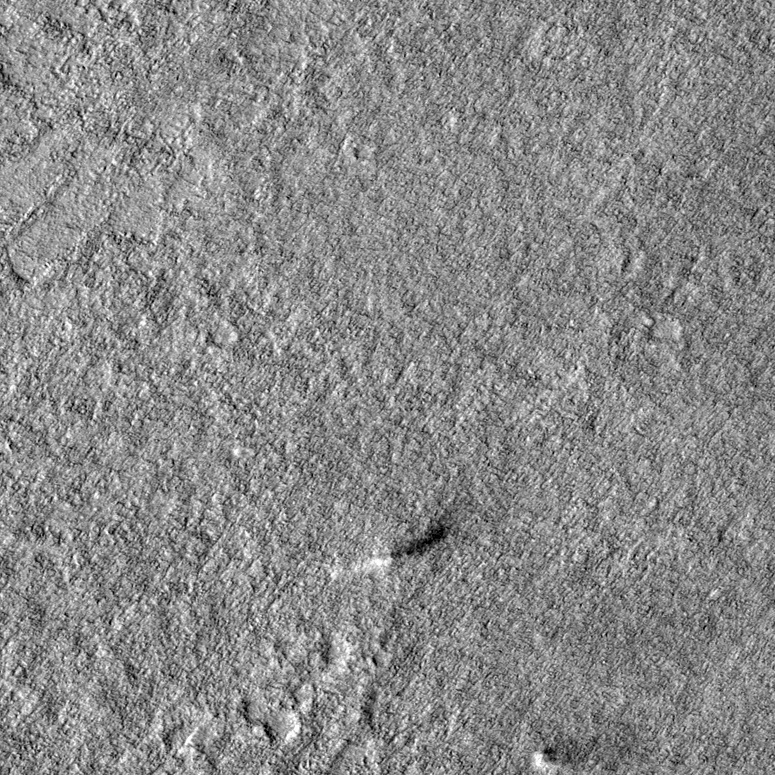dust_devil: (327, 519, 455, 583), (533, 736, 589, 770)
